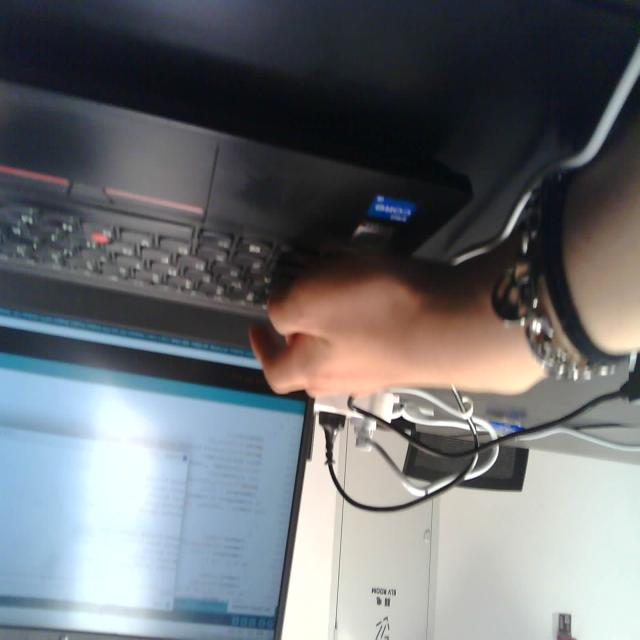keyboard-with-hands: (0, 76, 475, 333)
